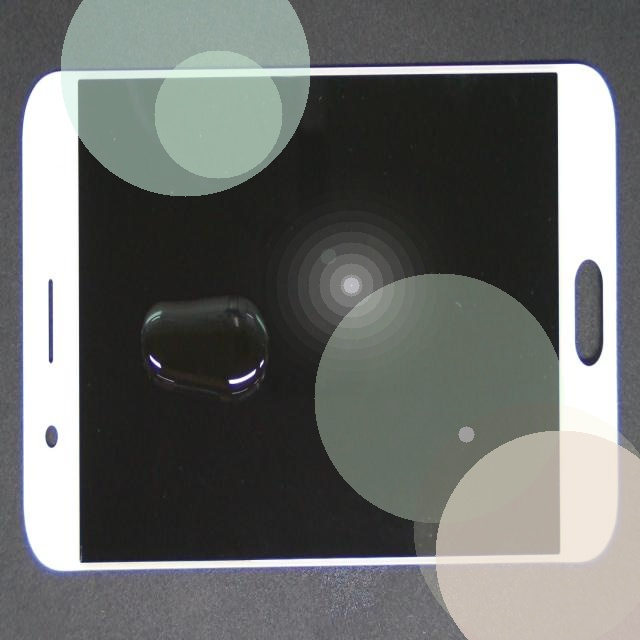oil: (140, 146, 283, 462)
